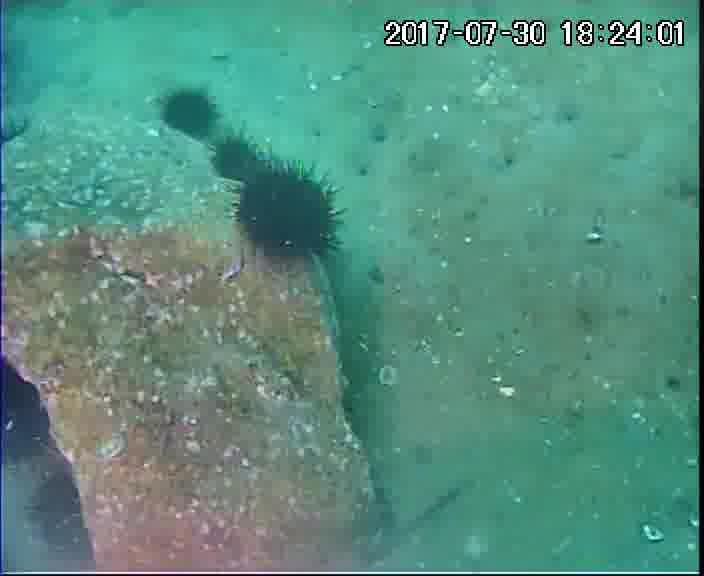echinus: (240, 165, 340, 263), (23, 469, 94, 564), (1, 361, 51, 457), (207, 130, 272, 189), (158, 89, 221, 140)
